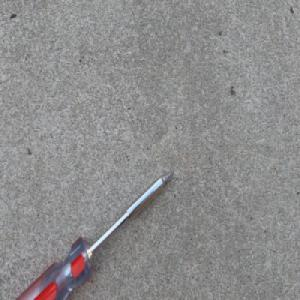Screwdriver: (11, 167, 175, 299)
